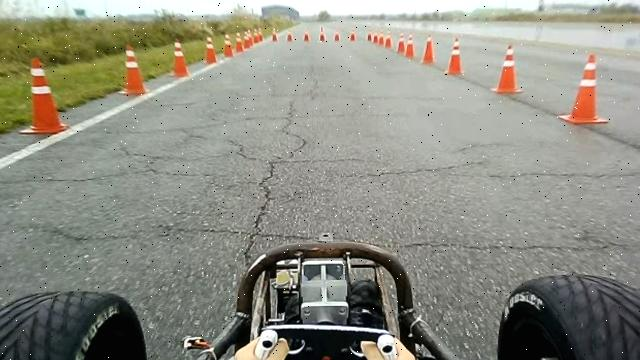red cone: (18, 56, 70, 134), (558, 53, 609, 125), (491, 44, 523, 94), (118, 44, 148, 96), (168, 39, 190, 78), (445, 36, 464, 75), (421, 33, 436, 65), (204, 35, 218, 65), (222, 33, 234, 57), (404, 32, 415, 58)
